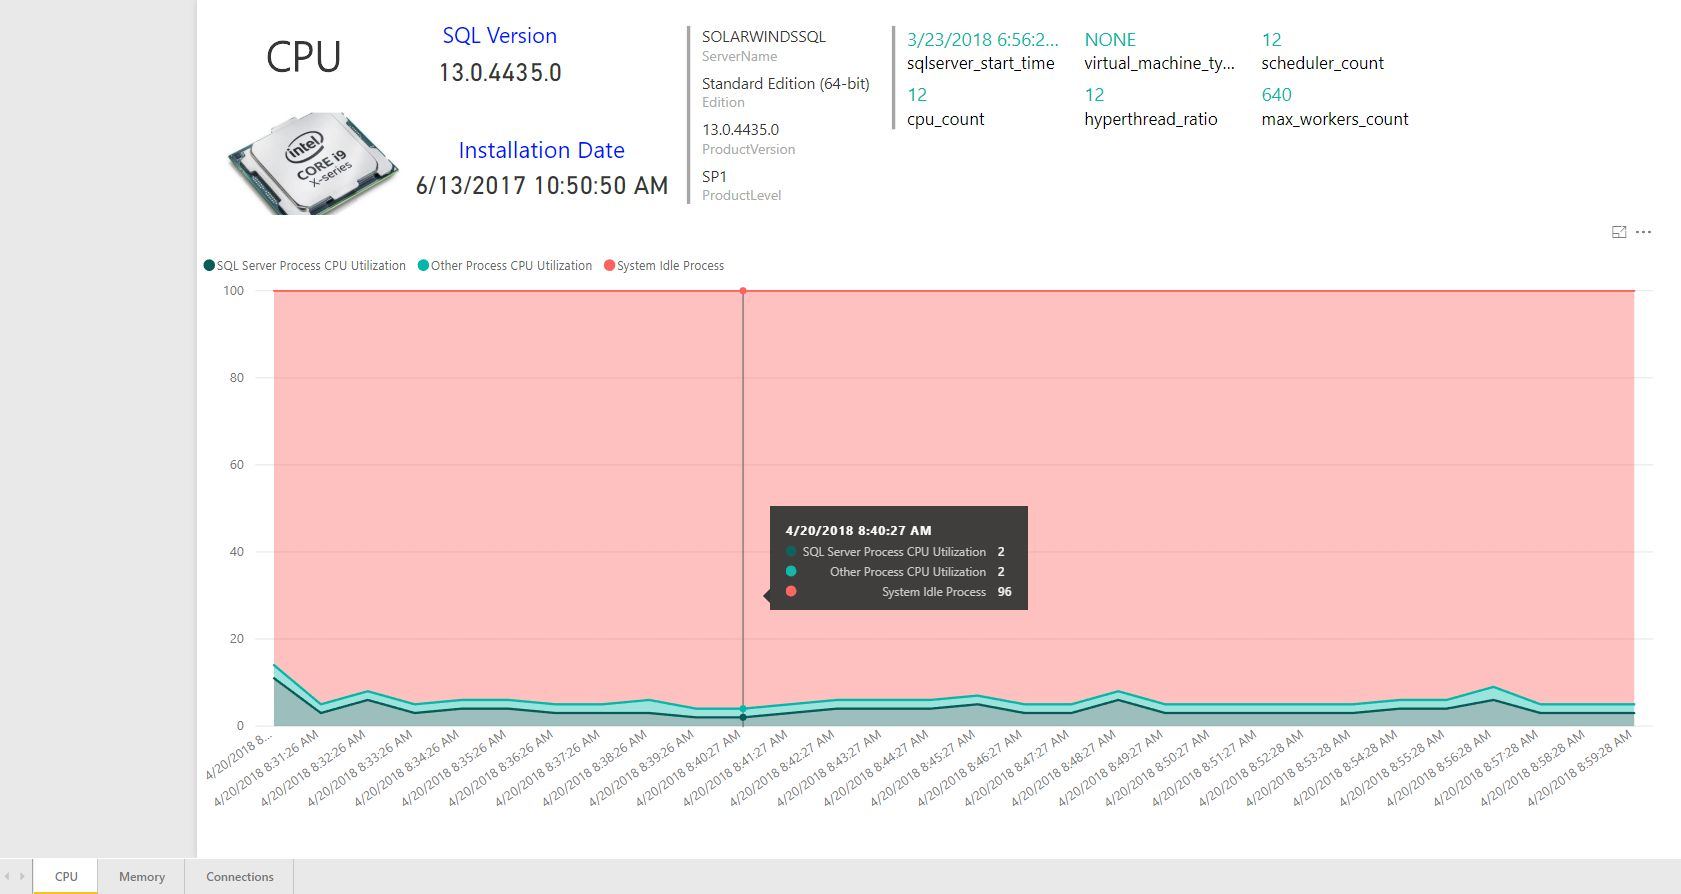

This screenshot's page, from the dashboard's own definition file:
{"tool":"powerbi","page":{"name":"CPU","canvas":[1280,720],"ordinal":1},"visuals":[{"type":"stackedAreaChart","fields":{"Category":["Query1.Event Time"],"Y":["Sum(Query1.SQL Server Process CPU Utilization)","Sum(Query1.Other Process CPU Utilization)","Sum(CPULast30Minutes.System Idle Process)"]},"box":[0,192,1256,496],"z":1},{"type":"multiRowCard","fields":{"Values":["SysInfo.sqlserver_start_time","SysInfo.virtual_machine_type_desc","Sum(SysInfo.scheduler_count)","Sum(SysInfo.cpu_count)","Sum(SysInfo.hyperthread_ratio)","Sum(SysInfo.max_workers_count)"]},"box":[592,0,480,152],"z":5},{"type":"image","box":[16,64,168,120],"z":7},{"type":"textbox","box":[0,0,184,80],"z":8},{"type":"card","fields":{"Values":["Min(Version.Version)"]},"box":[176,0,168,64],"z":9},{"type":"multiRowCard","fields":{"Values":["SQLVersion.ServerName","SQLVersion.Edition","SQLVersion.ProductVersion","SQLVersion.ProductLevel"]},"box":[416,0,192,176],"z":9},{"type":"card","fields":{"Values":["Min(Installation Date.column1)"]},"box":[176,96,240,64],"z":10}]}

Visuals, with their boxes on the page's 1280x720 design canvas (x1, y1, x2, y2). These are canvas units, not pixel positions in the 1681x894 screenshot, which may show the page scaled, cropped or inside an application window:
stackedAreaChart - Query1.Event Time x Sum(Query1.SQL Server Process CPU Utilization): l=0, t=192, r=1256, b=688
multiRowCard - SysInfo.sqlserver_start_time x SysInfo.virtual_machine_type_desc: l=592, t=0, r=1072, b=152
image: l=16, t=64, r=184, b=184
textbox: l=0, t=0, r=184, b=80
card - Min(Version.Version): l=176, t=0, r=344, b=64
multiRowCard - SQLVersion.ServerName x SQLVersion.Edition: l=416, t=0, r=608, b=176
card - Min(Installation Date.column1): l=176, t=96, r=416, b=160
